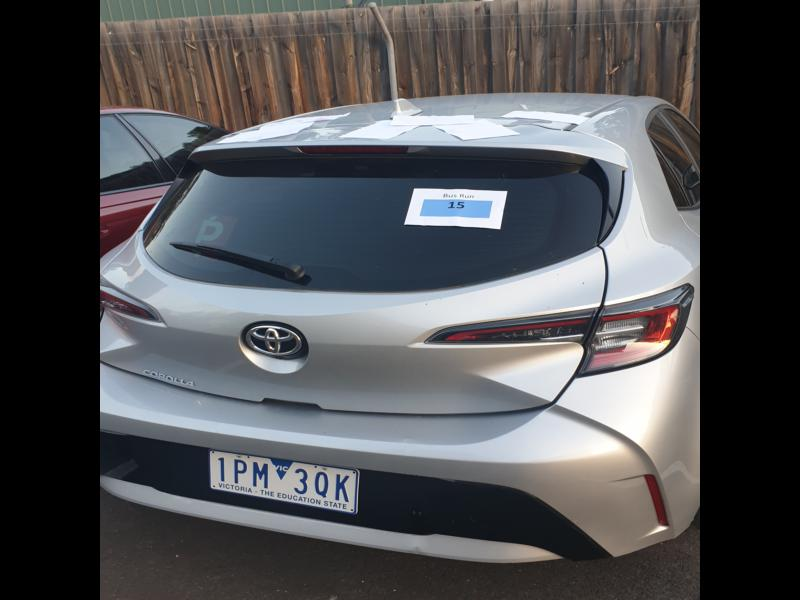BusRun: (420, 197, 492, 219)
PlateNo: (203, 448, 363, 513)
